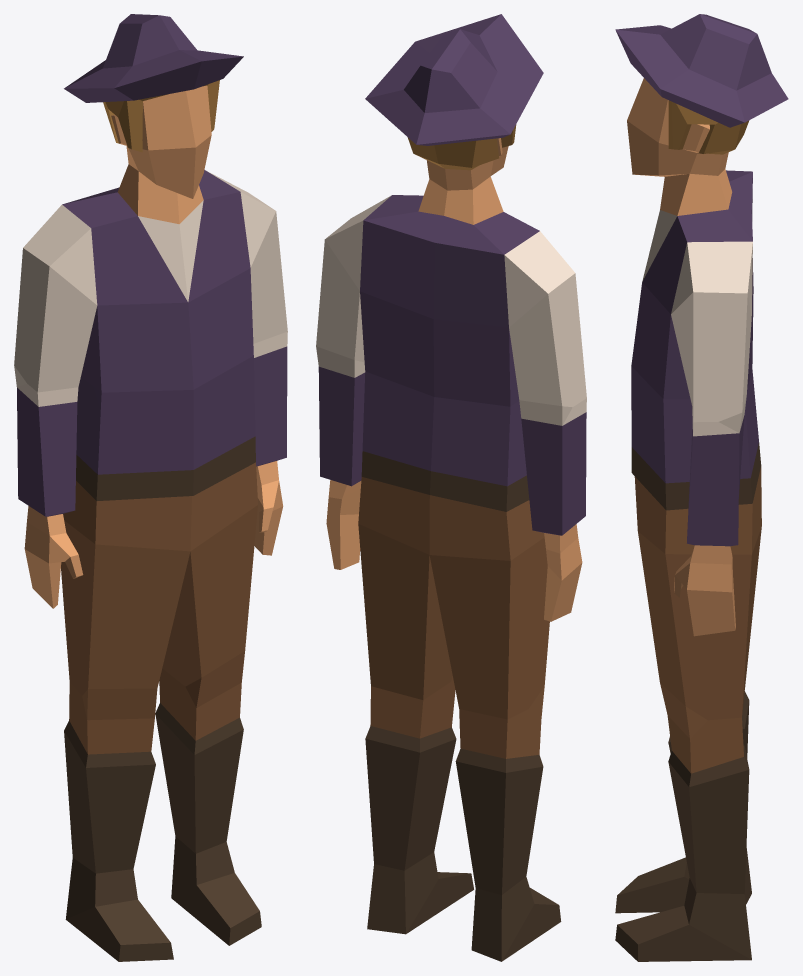
The model's file is people_man-lad-rival.fbx.
3 renders of one model, left to right at view 1: azimuth 30°, elevation 25°; view 2: azimuth 150°, elevation 25°; view 3: azimuth 270°, elevation 25°, orthographic.
Parts seen in each view (by area): view 1: people_man_lad_rival; view 2: people_man_lad_rival; view 3: people_man_lad_rival.
Boxes of the visible parts, x1=… form: people_man_lad_rival: x1=14, y1=14, x2=287, y2=961; people_man_lad_rival: x1=316, y1=14, x2=586, y2=961; people_man_lad_rival: x1=615, y1=14, x2=788, y2=961.
Bounding box in the file's own units: 57.71 × 200 × 34.44.
